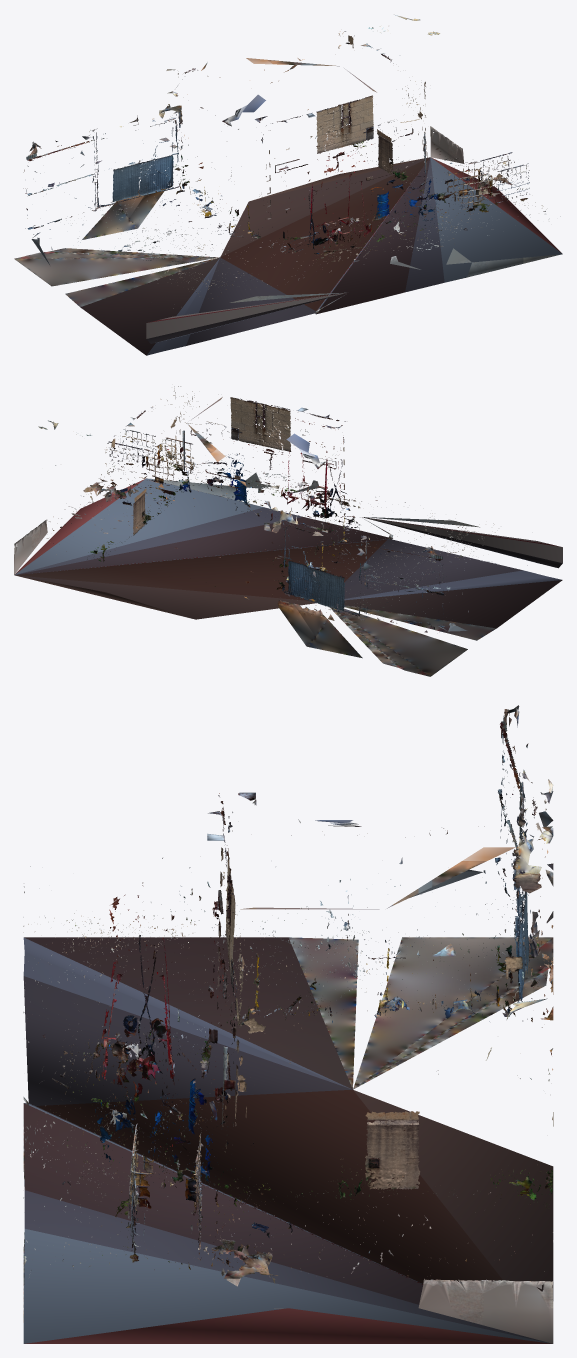
3 views of the same model, one above another, from view 1: azimuth 30°, elevation 25°; view 2: azimuth 150°, elevation 25°; view 3: azimuth 270°, elevation 25° (orthographic). The views are drawn at different scales.
Size of the model in its own units: 11.17 by 3.93 by 6.15.
Materials: 1 (1 with a texture image).
